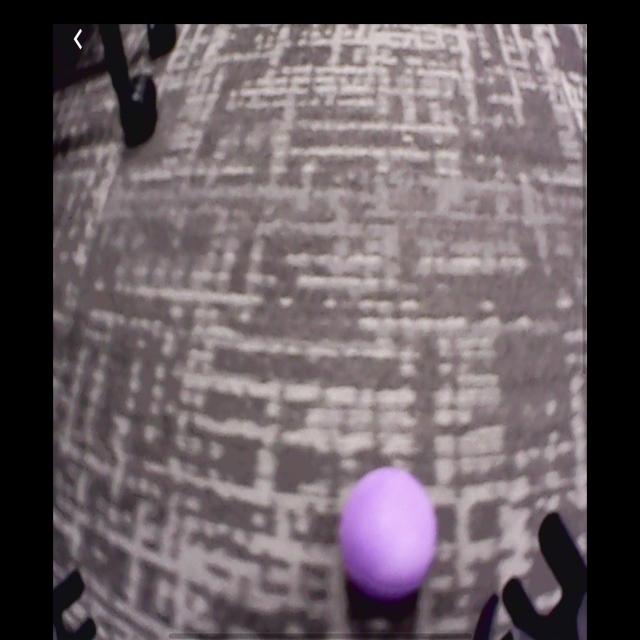ball: (340, 467, 438, 609)
